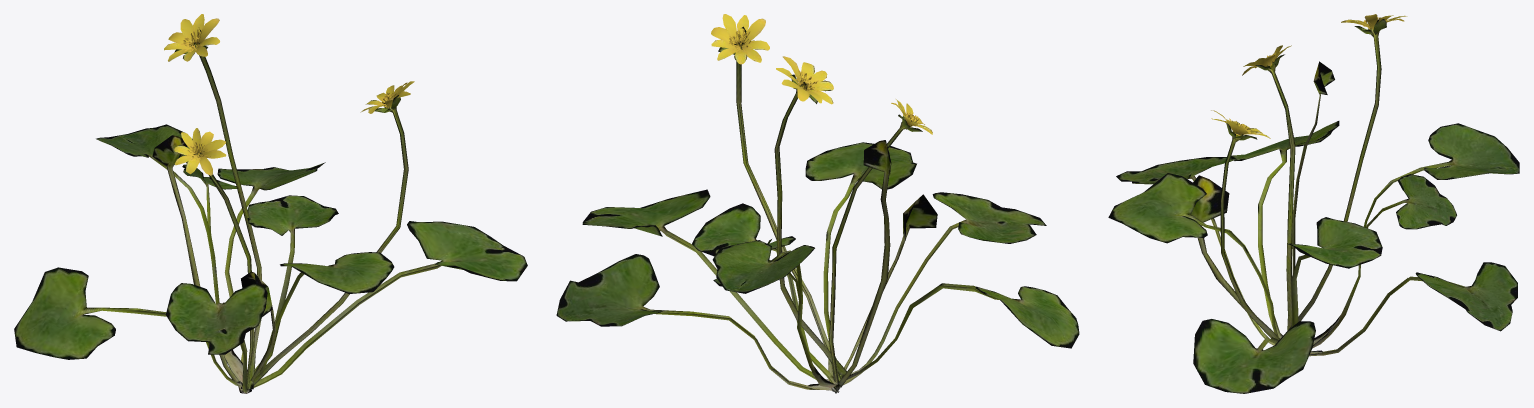
The model's file is celandine_01_c.glb.
The picture shows the model from 3 angles, left to right: view 1: azimuth 30°, elevation 25°; view 2: azimuth 150°, elevation 25°; view 3: azimuth 270°, elevation 25°; orthographic projection. The views are drawn at different scales.
Parts seen in each view (by area): view 1: celandine_01_c; view 2: celandine_01_c; view 3: celandine_01_c.
Boxes of the visible parts, box(x1,y1,x2,y2) form: celandine_01_c: box(14, 14, 527, 393); celandine_01_c: box(556, 14, 1079, 393); celandine_01_c: box(1108, 14, 1519, 393).
Size of the model in its own units: 0.2571 by 0.1756 by 0.1864.
1 material, 1 textured.
